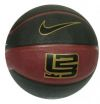basketball: (5, 4, 100, 99)
